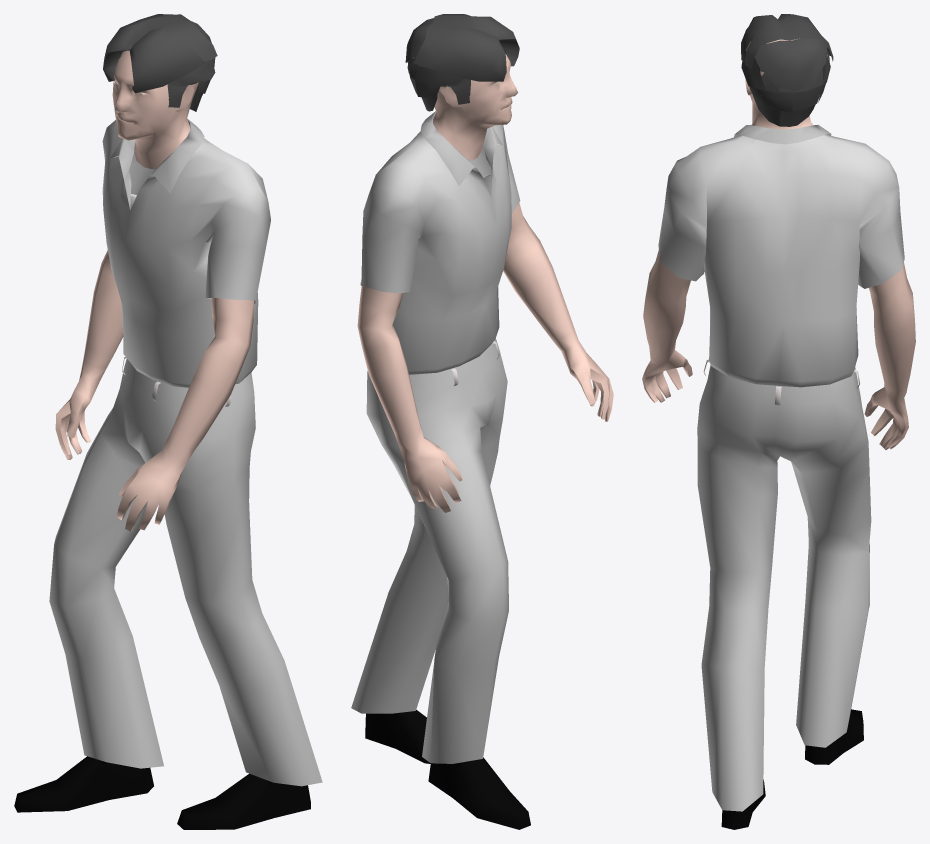
Rendered from people.glb.
3 renders of one model, left to right at view 1: azimuth 30°, elevation 25°; view 2: azimuth 150°, elevation 25°; view 3: azimuth 270°, elevation 25°, orthographic. The views are drawn at different scales.
Visible parts, largest first — view 1: 人; view 2: 人; view 3: 人.
Part boxes in pixels (<box>): 人: <box>14,14,322,829</box>; 人: <box>351,14,613,829</box>; 人: <box>642,14,915,829</box>.
Size of the model in its own units: 0.3668 by 1.14 by 0.3765.
